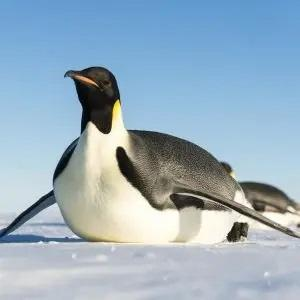emporer: (26, 51, 265, 255)
